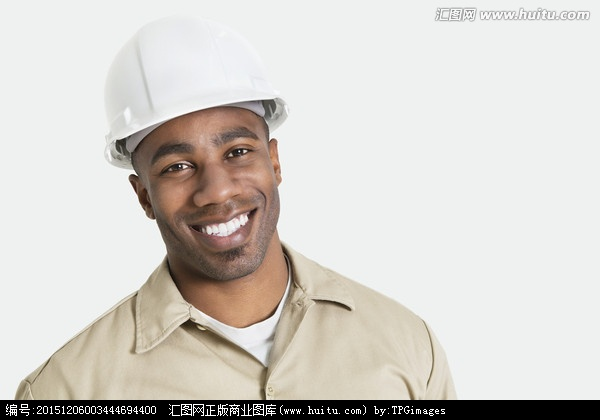white: (98, 15, 294, 286)
